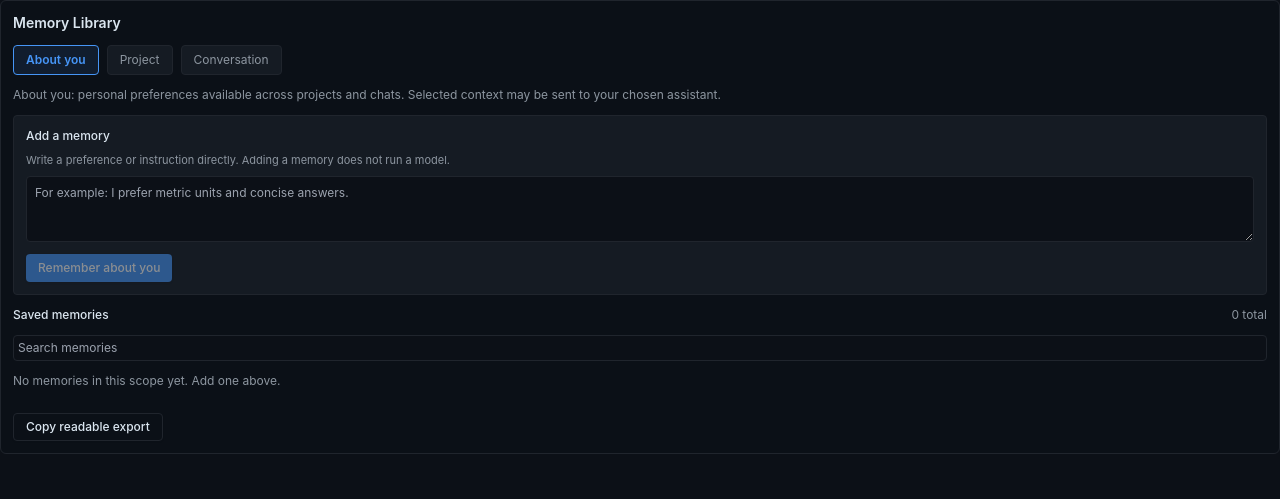
Test: direct memory entry › names the library and saves a personal memory through the local store
Check: the heading "Memory Library" is shown, box 13,14 -> 121,31
Check: the button "Remember about you" is disabled, box 26,254 -> 172,282
Type "Prefer metric units." into the text box named "New memory". click: (640, 209)
box: 26,176 -> 1254,242
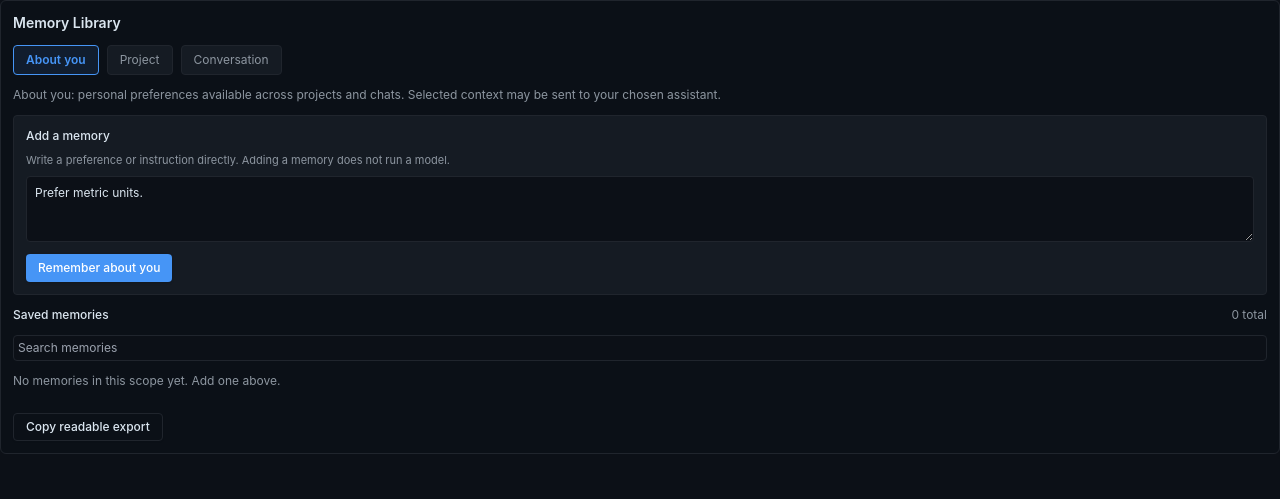
Click the button "Remember about you". click: (99, 268)
box: 26,254 -> 172,282
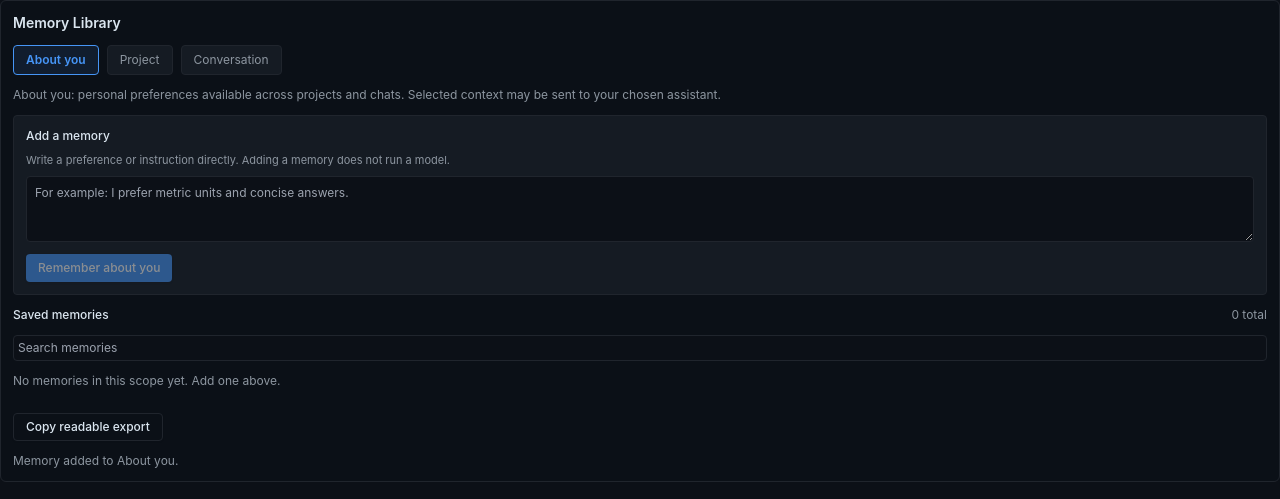
Check: the message reads "Memory added to About you.", box 13,453 -> 178,468
Check: the text box named "New memory" is empty, box 26,176 -> 1254,242
